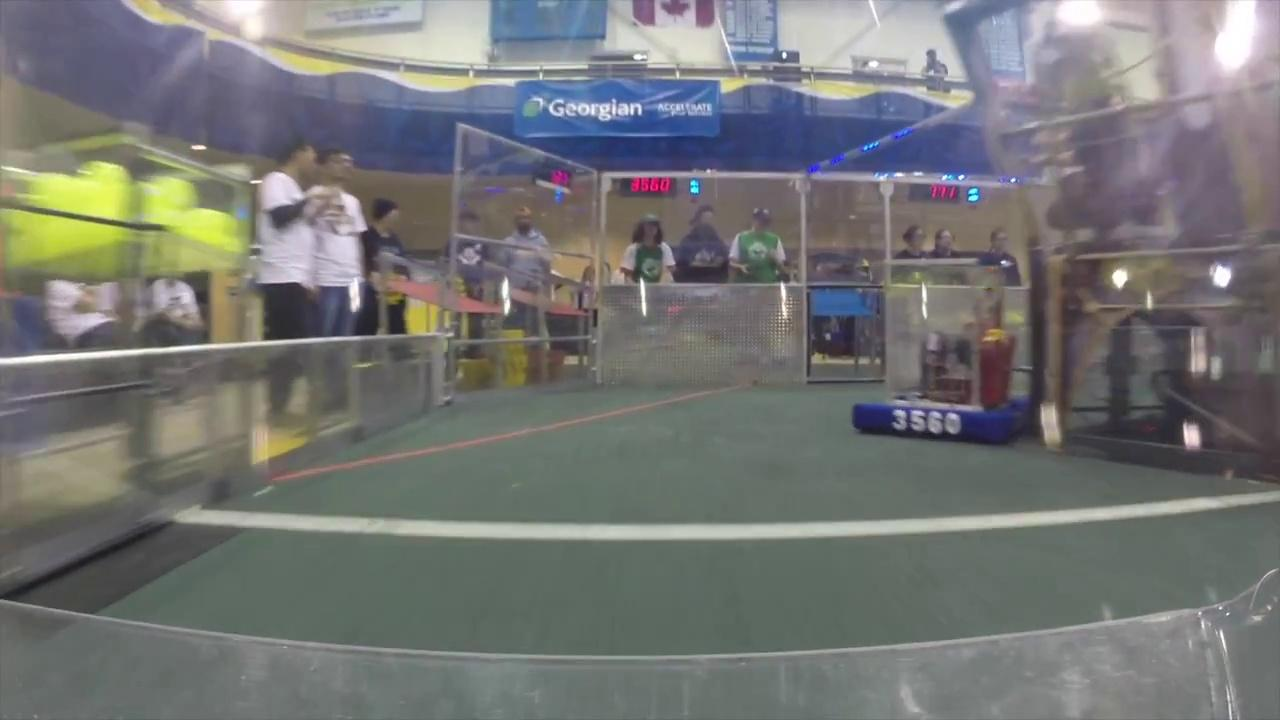robot: (846, 260, 1036, 445)
